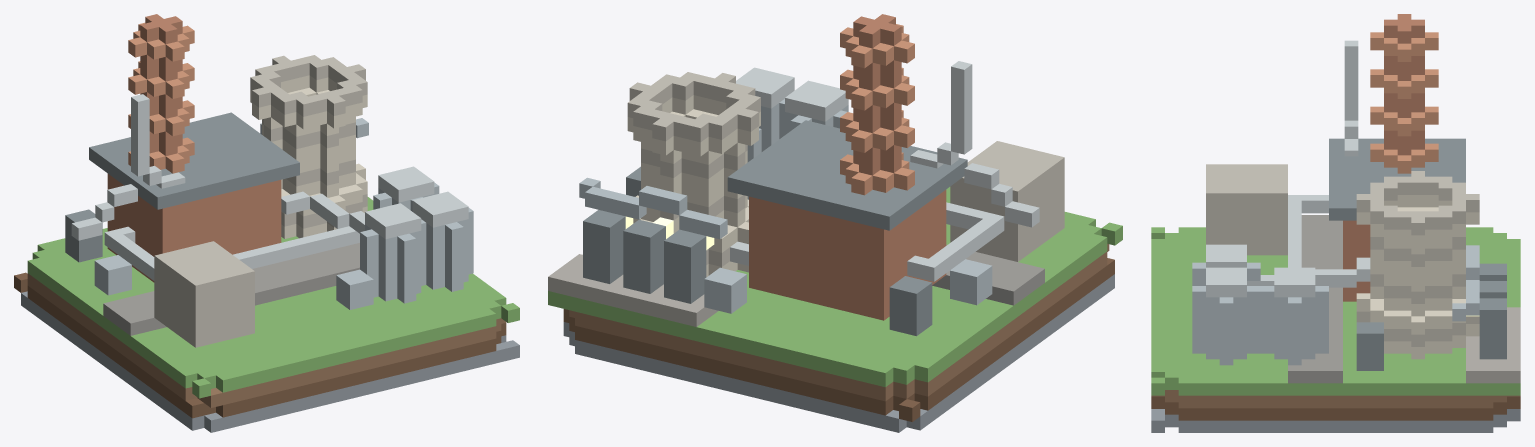
The model's file is energy.glb.
3 views of the same model, side by side, from view 1: azimuth 30°, elevation 25°; view 2: azimuth 150°, elevation 25°; view 3: azimuth 270°, elevation 25° (orthographic). The views are drawn at different scales.
Parts seen in each view (by area): view 1: VX_energy_LOD0, ANIM_rotor_spin; view 2: VX_energy_LOD0, ANIM_rotor_spin; view 3: VX_energy_LOD0, ANIM_rotor_spin.
Boxes of the visible parts, x1,y1,x2,y2 form: VX_energy_LOD0: (14,14,519,432); ANIM_rotor_spin: (71,94,185,240); VX_energy_LOD0: (548,14,1122,432); ANIM_rotor_spin: (910,61,1039,227); VX_energy_LOD0: (1151,14,1520,432); ANIM_rotor_spin: (1344,40,1358,156).
Size of the model in its own units: 6.38 by 5.28 by 5.94.
